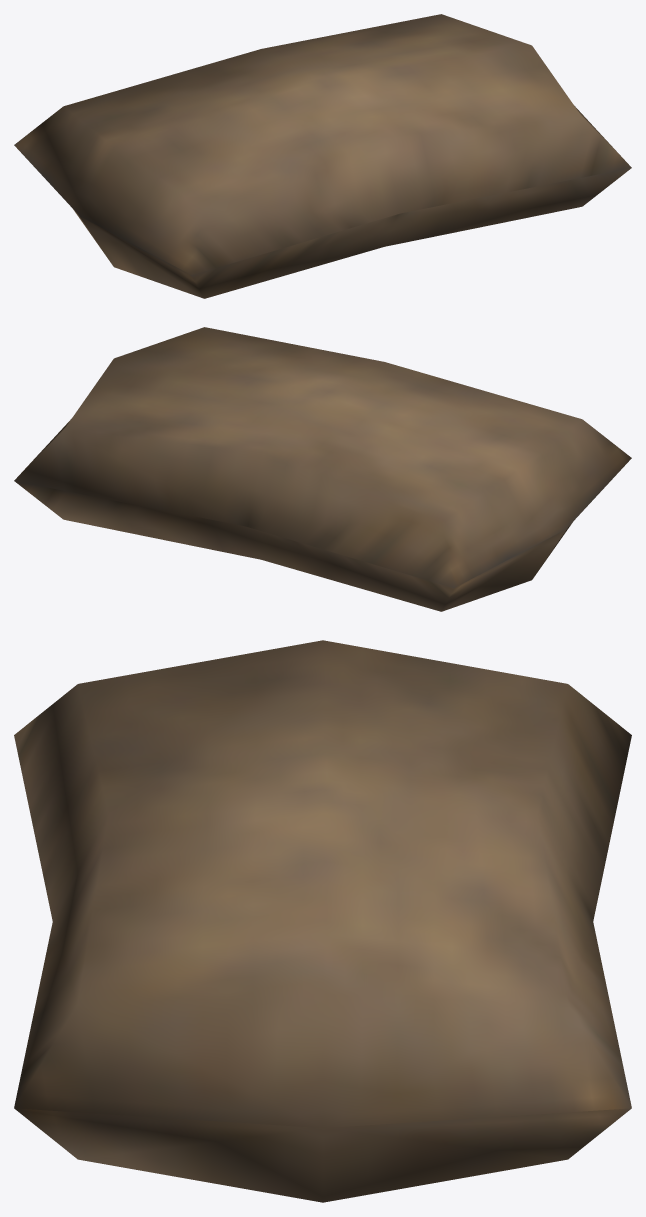
File: cargo_1.FBX
The picture shows the model from 3 angles, top to bottom: view 1: azimuth 30°, elevation 25°; view 2: azimuth 150°, elevation 25°; view 3: azimuth 270°, elevation 25°; orthographic projection. The views are drawn at different scales.
Visible parts, largest first — view 1: Box009; view 2: Box009; view 3: Box009.
Boxes of the visible parts, <box> form: Box009: <box>14,14,631,298</box>; Box009: <box>14,327,631,611</box>; Box009: <box>14,640,631,1202</box>.
Bounding box in the file's own units: 27.45 × 17.37 × 7.27.
